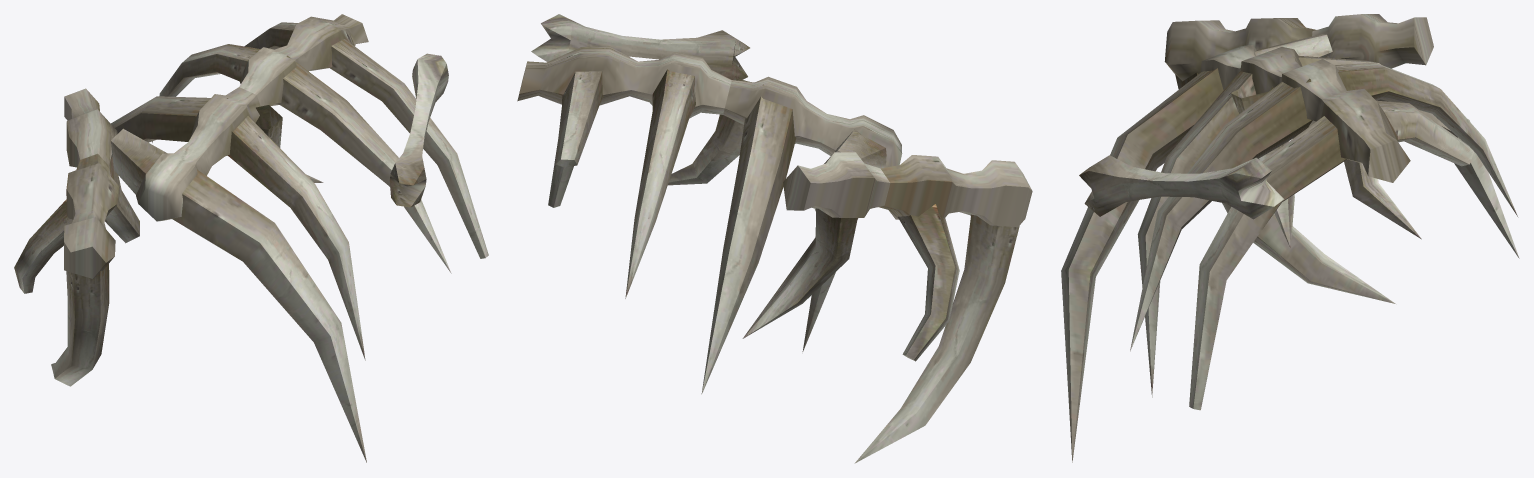
The model's file is map_114_wujian_1.fbx.
3 views of the same model, side by side, from view 1: azimuth 30°, elevation 25°; view 2: azimuth 150°, elevation 25°; view 3: azimuth 270°, elevation 25° (orthographic). The views are drawn at different scales.
Visible parts, largest first — view 1: map_114_wujian_1; view 2: map_114_wujian_1; view 3: map_114_wujian_1.
Part boxes in pixels (x1,y1,x2,y2): map_114_wujian_1: (14,14,488,462); map_114_wujian_1: (517,14,1032,463); map_114_wujian_1: (1061,14,1519,462).
Bounding box in the file's own units: 1.77 × 1.35 × 1.38.
